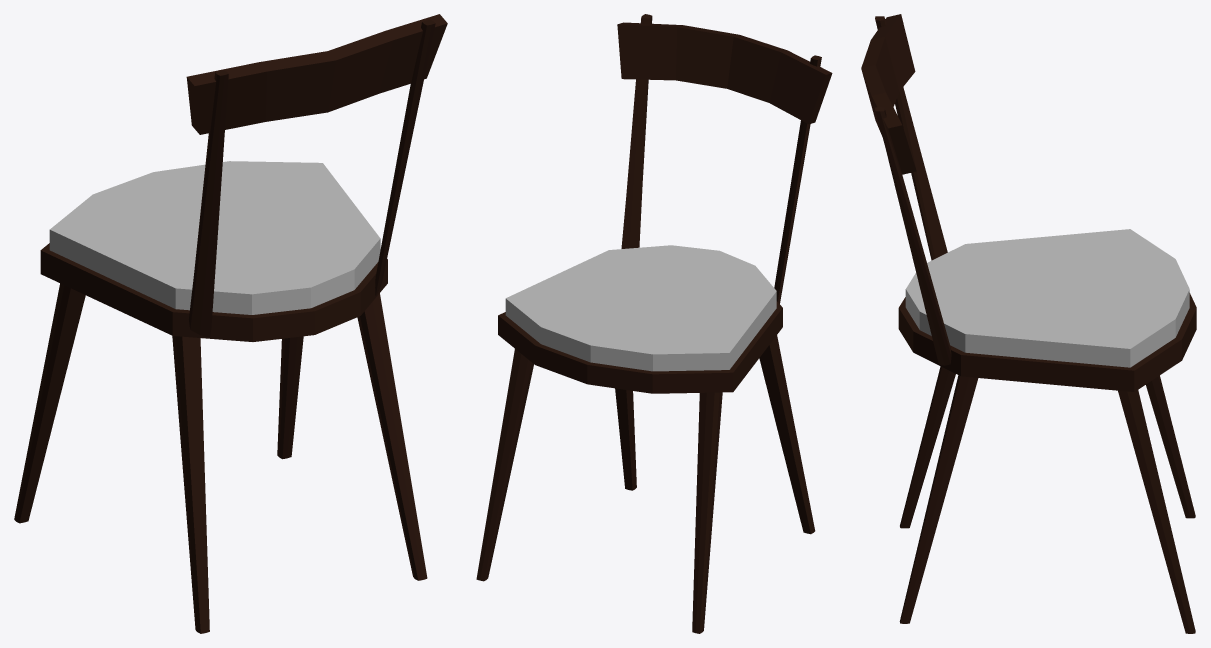
The model's file is Dining Chair.fbx.
3 renders of one model, left to right at view 1: azimuth 30°, elevation 25°; view 2: azimuth 150°, elevation 25°; view 3: azimuth 270°, elevation 25°, orthographic. The views are drawn at different scales.
Visible parts, largest first — view 1: Cube.002; view 2: Cube.002; view 3: Cube.002.
Part boxes in pixels (x1,y1,x2,y2): Cube.002: (14, 14, 447, 633); Cube.002: (476, 14, 832, 633); Cube.002: (861, 14, 1196, 633).
Size of the model in its own units: 63 by 119 by 70.93.
